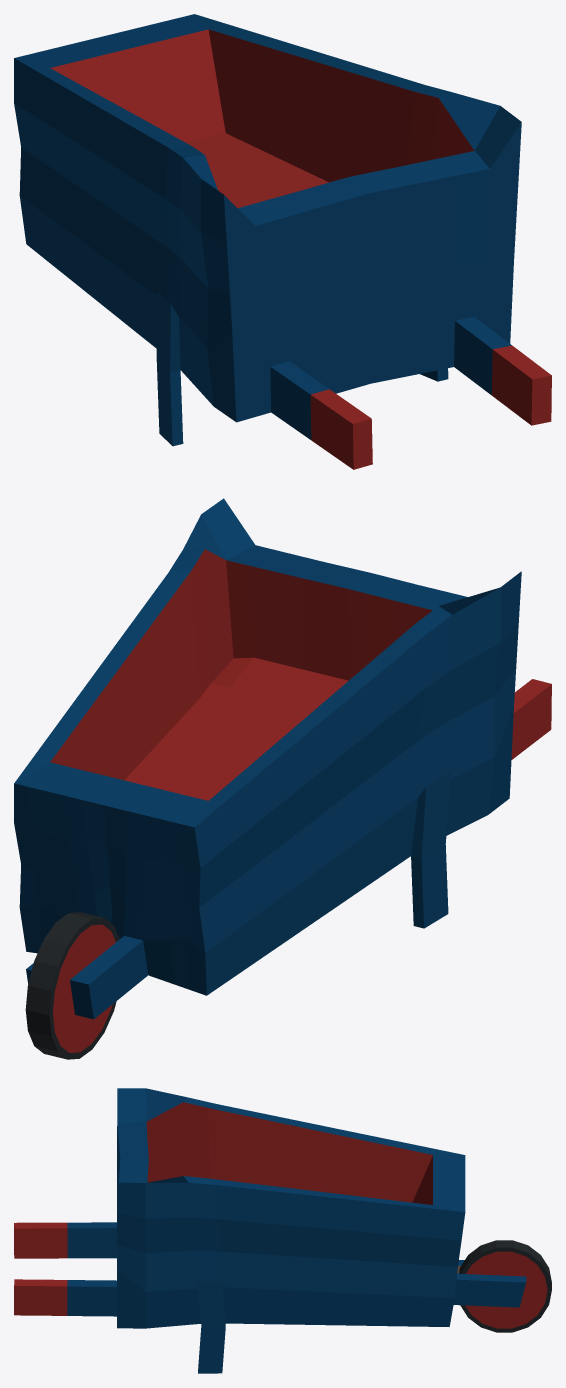
File: Wheelbarrow.fbx
3 renders of one model, top to bottom at view 1: azimuth 30°, elevation 25°; view 2: azimuth 150°, elevation 25°; view 3: azimuth 270°, elevation 25°, orthographic. The views are drawn at different scales.
Parts seen in each view (by area): view 1: Cube; view 2: Cube; view 3: Cube.
Boxes of the visible parts, bbox=[...] form: Cube: bbox=[14, 14, 551, 469]; Cube: bbox=[14, 498, 551, 1059]; Cube: bbox=[14, 1088, 551, 1373].
Bounding box in the file's own units: 64.3 × 62.04 × 154.
